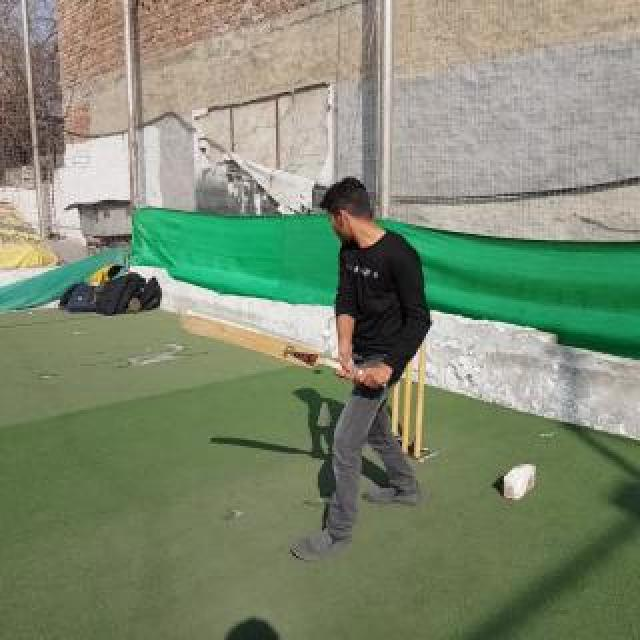ball: (321, 329, 331, 339)
bat: (180, 310, 386, 388)
